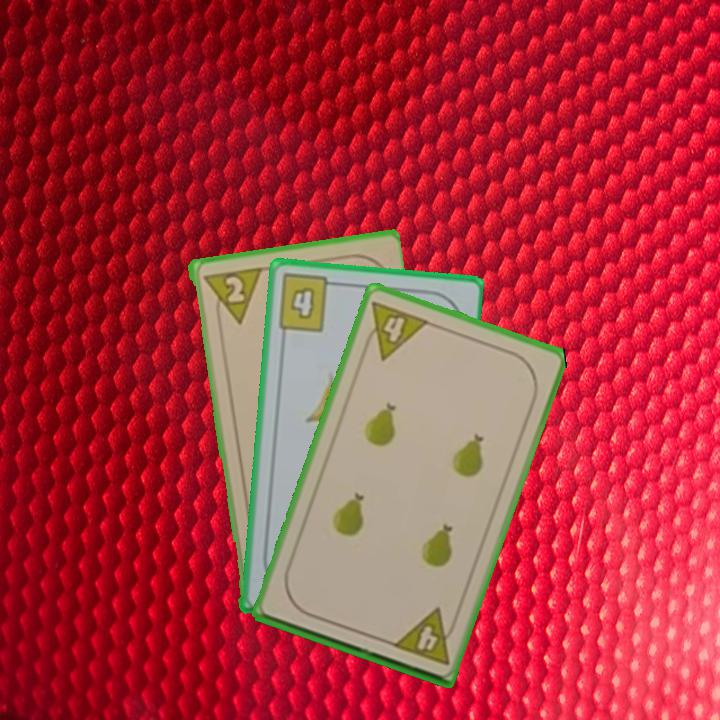2p: (199, 263, 263, 329)
4b: (274, 270, 341, 335)
4p: (358, 297, 432, 363), (388, 604, 461, 668)
